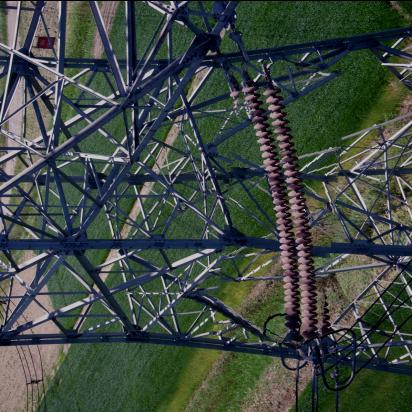insulator: (221, 63, 343, 344)
